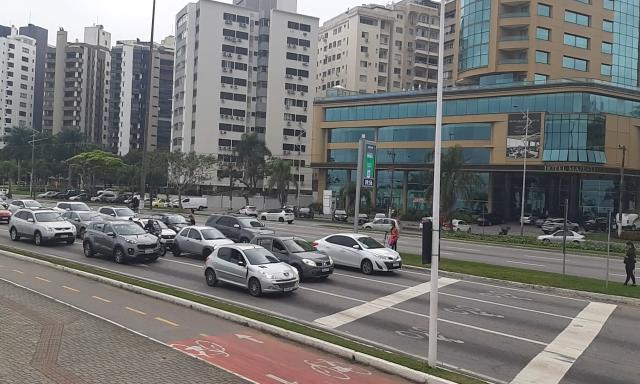carro: (200, 242, 299, 298), (250, 234, 334, 282), (310, 234, 404, 276), (83, 220, 163, 264), (9, 208, 78, 248), (172, 227, 234, 260), (203, 213, 278, 238), (131, 216, 176, 250), (61, 208, 106, 238), (536, 231, 586, 248), (150, 212, 192, 231), (259, 207, 295, 225), (96, 205, 136, 221), (361, 216, 401, 232), (9, 198, 43, 216), (53, 201, 93, 216), (544, 218, 578, 234), (442, 219, 474, 235), (582, 217, 608, 233), (475, 213, 505, 226), (536, 215, 558, 228), (519, 213, 542, 225), (238, 205, 258, 218), (57, 190, 82, 200), (91, 193, 116, 202), (332, 208, 348, 222), (0, 206, 12, 224), (162, 197, 180, 209), (152, 198, 172, 208), (419, 216, 433, 230), (298, 208, 314, 220), (111, 193, 130, 203), (126, 194, 146, 203), (69, 193, 91, 201), (140, 198, 158, 206), (373, 212, 386, 222), (38, 191, 56, 198), (357, 214, 368, 225), (0, 197, 9, 210), (0, 187, 11, 197), (48, 191, 63, 198)
moto: (138, 229, 167, 255), (497, 225, 508, 240), (129, 202, 138, 213)
van: (174, 196, 208, 211)
